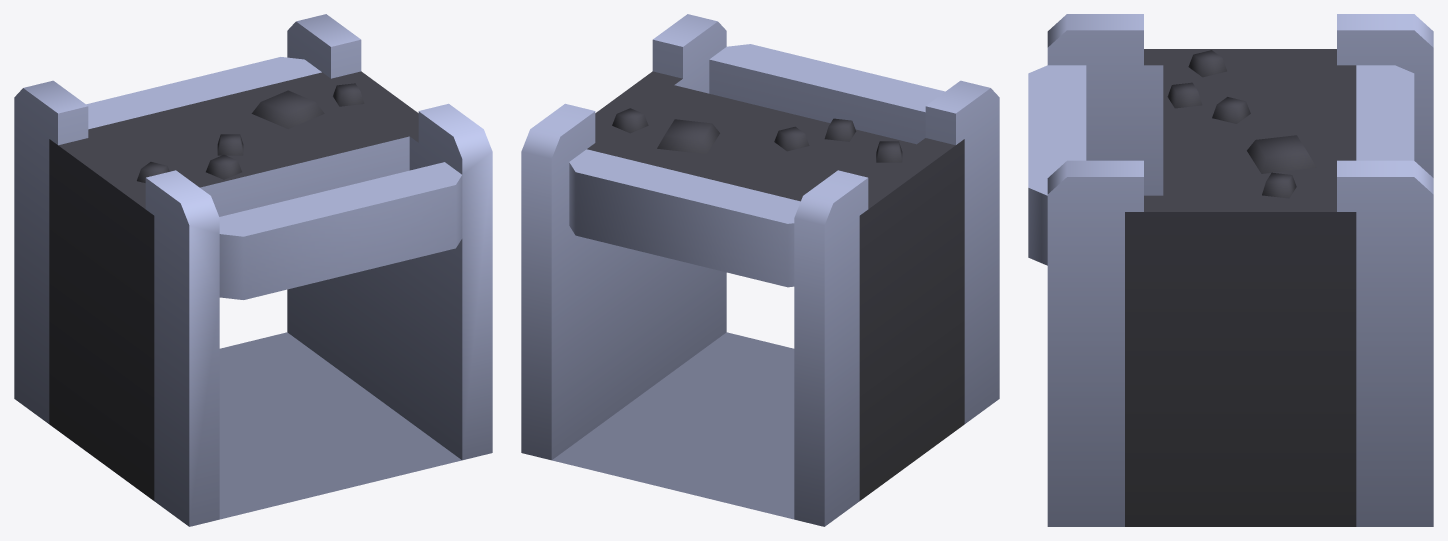
Rendered from wall-opening.001_lev4.glb.
The picture shows the model from 3 angles, left to right: view 1: azimuth 30°, elevation 25°; view 2: azimuth 150°, elevation 25°; view 3: azimuth 270°, elevation 25°; orthographic projection. The views are drawn at different scales.
Parts seen in each view (by area): view 1: wall-opening.001_lev4; view 2: wall-opening.001_lev4; view 3: wall-opening.001_lev4.
Boxes of the visible parts, <box> form: wall-opening.001_lev4: <box>14,14,492,526</box>; wall-opening.001_lev4: <box>521,14,999,526</box>; wall-opening.001_lev4: <box>1028,14,1433,526</box>.
Bounding box in the file's own units: 6.98 × 6.98 × 7.33.
Materials: 1 (1 with a texture image).
